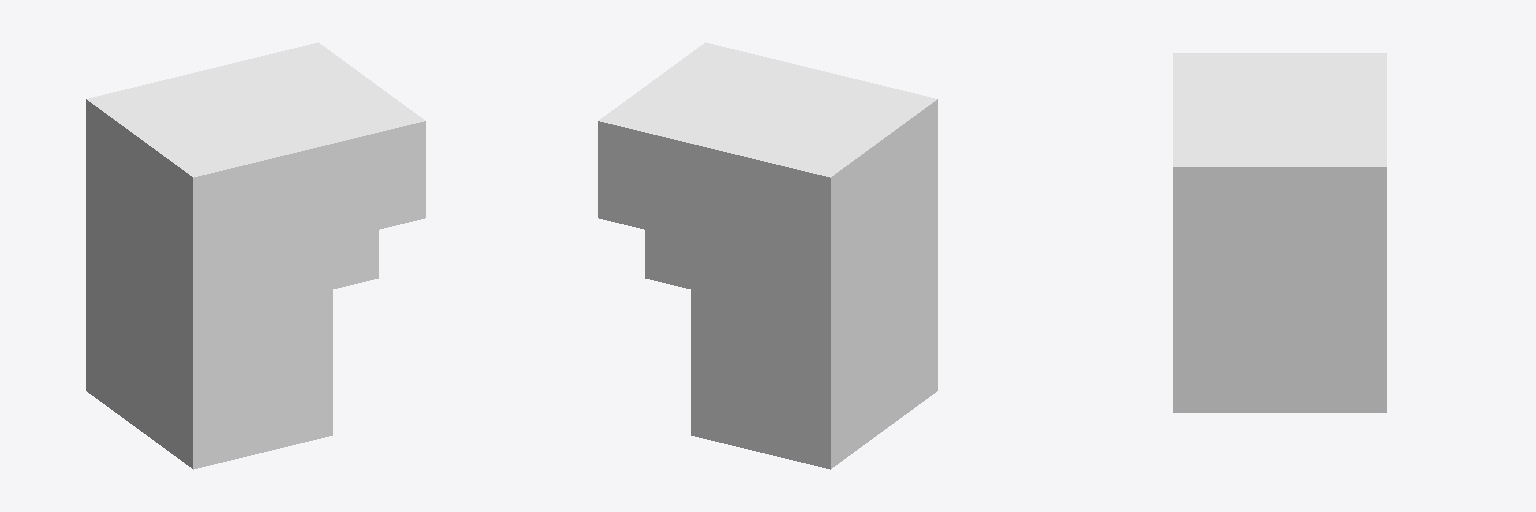
Rendered from gladiator-6.obj.
The picture shows the model from 3 angles: view 1: azimuth 30°, elevation 25°; view 2: azimuth 150°, elevation 25°; view 3: azimuth 270°, elevation 25°; orthographic projection.
Parts seen in each view (by area): view 1: object 1; view 2: object 1; view 3: object 1.
Part boxes in pixels (x1,y1,x2,y2): object 1: (86,42,425,469); object 1: (598,42,937,469); object 1: (1173,53,1386,412).
Bounding box in the file's own units: 0.5 × 0.6 × 0.4.